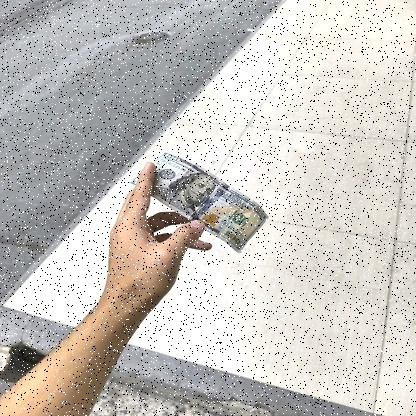one_hundred-front: (129, 148, 268, 256)
